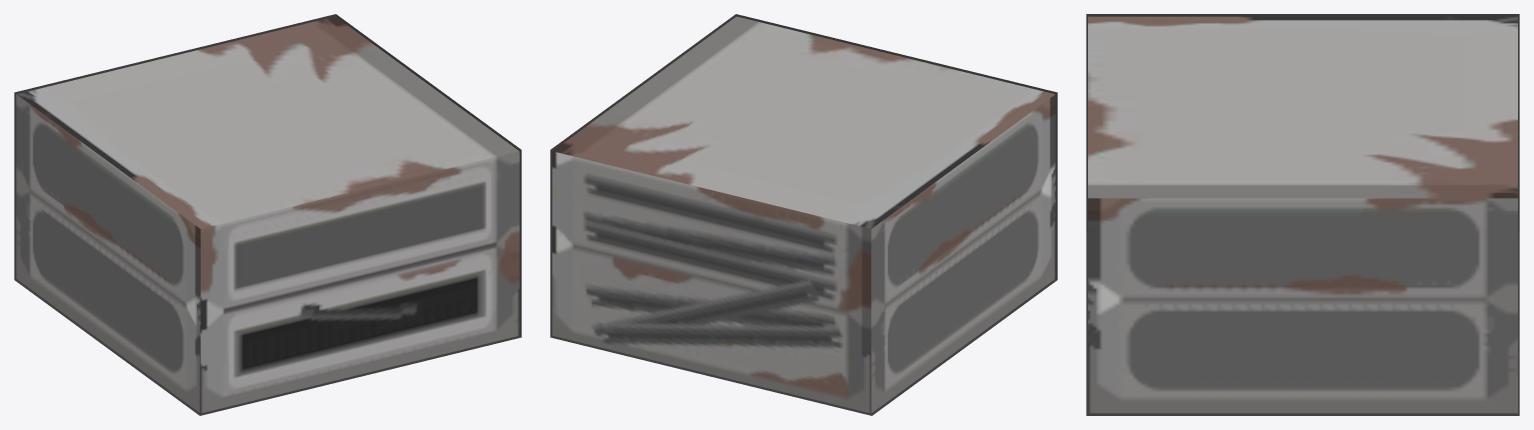
Rendered from Building_AncientOven.glb.
The picture shows the model from 3 angles, left to right: view 1: azimuth 30°, elevation 25°; view 2: azimuth 150°, elevation 25°; view 3: azimuth 270°, elevation 25°; orthographic projection. The views are drawn at different scales.
Parts seen in each view (by area): view 1: AncientOven, Outline; view 2: AncientOven, Outline; view 3: AncientOven, Outline.
Boxes of the visible parts, x1,y1,x2,y2 form: AncientOven: [16, 16, 519, 413]; Outline: [14, 14, 521, 415]; AncientOven: [552, 16, 1055, 413]; Outline: [550, 14, 1057, 415]; AncientOven: [1088, 16, 1517, 413]; Outline: [1086, 14, 1519, 415].
Size of the model in its own units: 1.92 by 1.07 by 1.92.
Materials: 2 (1 with a texture image).
